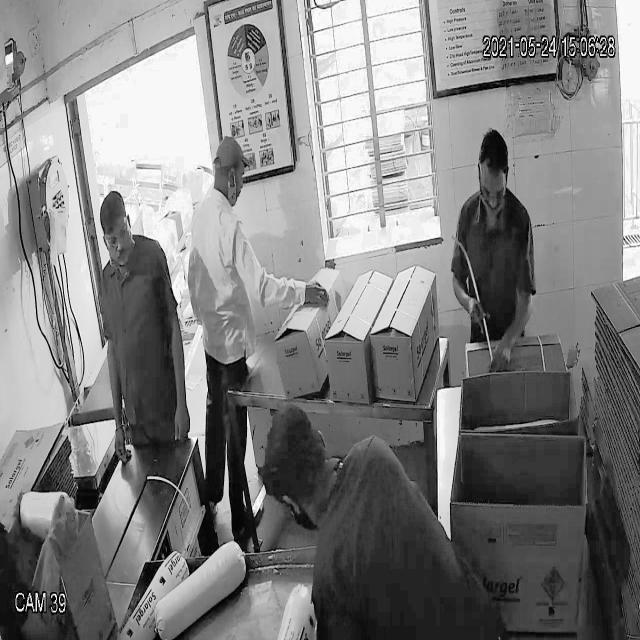glasses: (101, 218, 133, 250)
